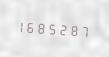eight: (37, 18, 46, 36), (67, 20, 76, 38)
five: (47, 19, 56, 37)
one: (17, 17, 26, 35)
seven: (77, 21, 86, 39)
six: (27, 18, 36, 35)
two: (57, 20, 66, 37)
